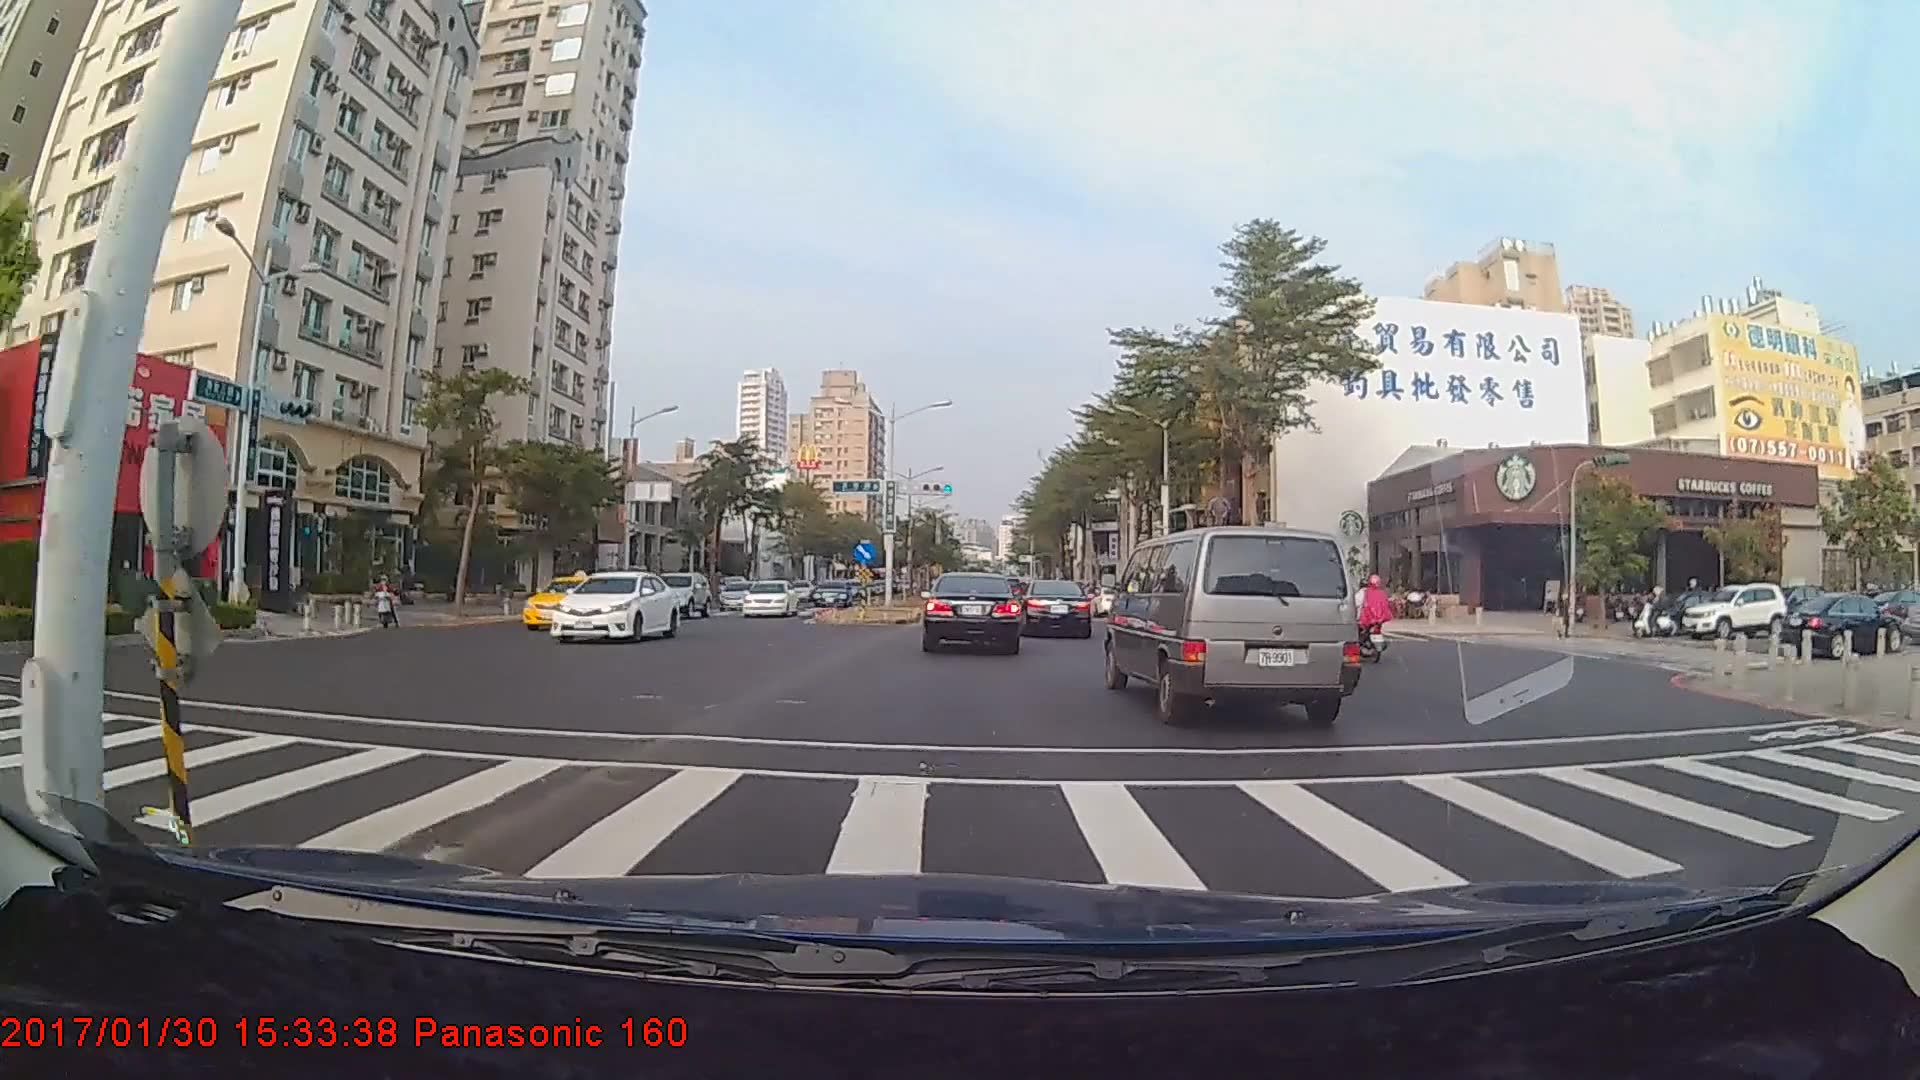rider: (1633, 580, 1678, 641)
vehicle: (1106, 523, 1350, 721), (547, 569, 681, 644), (1772, 582, 1906, 652), (921, 571, 1022, 653), (1679, 584, 1790, 638), (519, 575, 620, 634), (1018, 579, 1093, 639), (647, 572, 710, 620), (739, 581, 796, 618), (811, 579, 853, 607)
